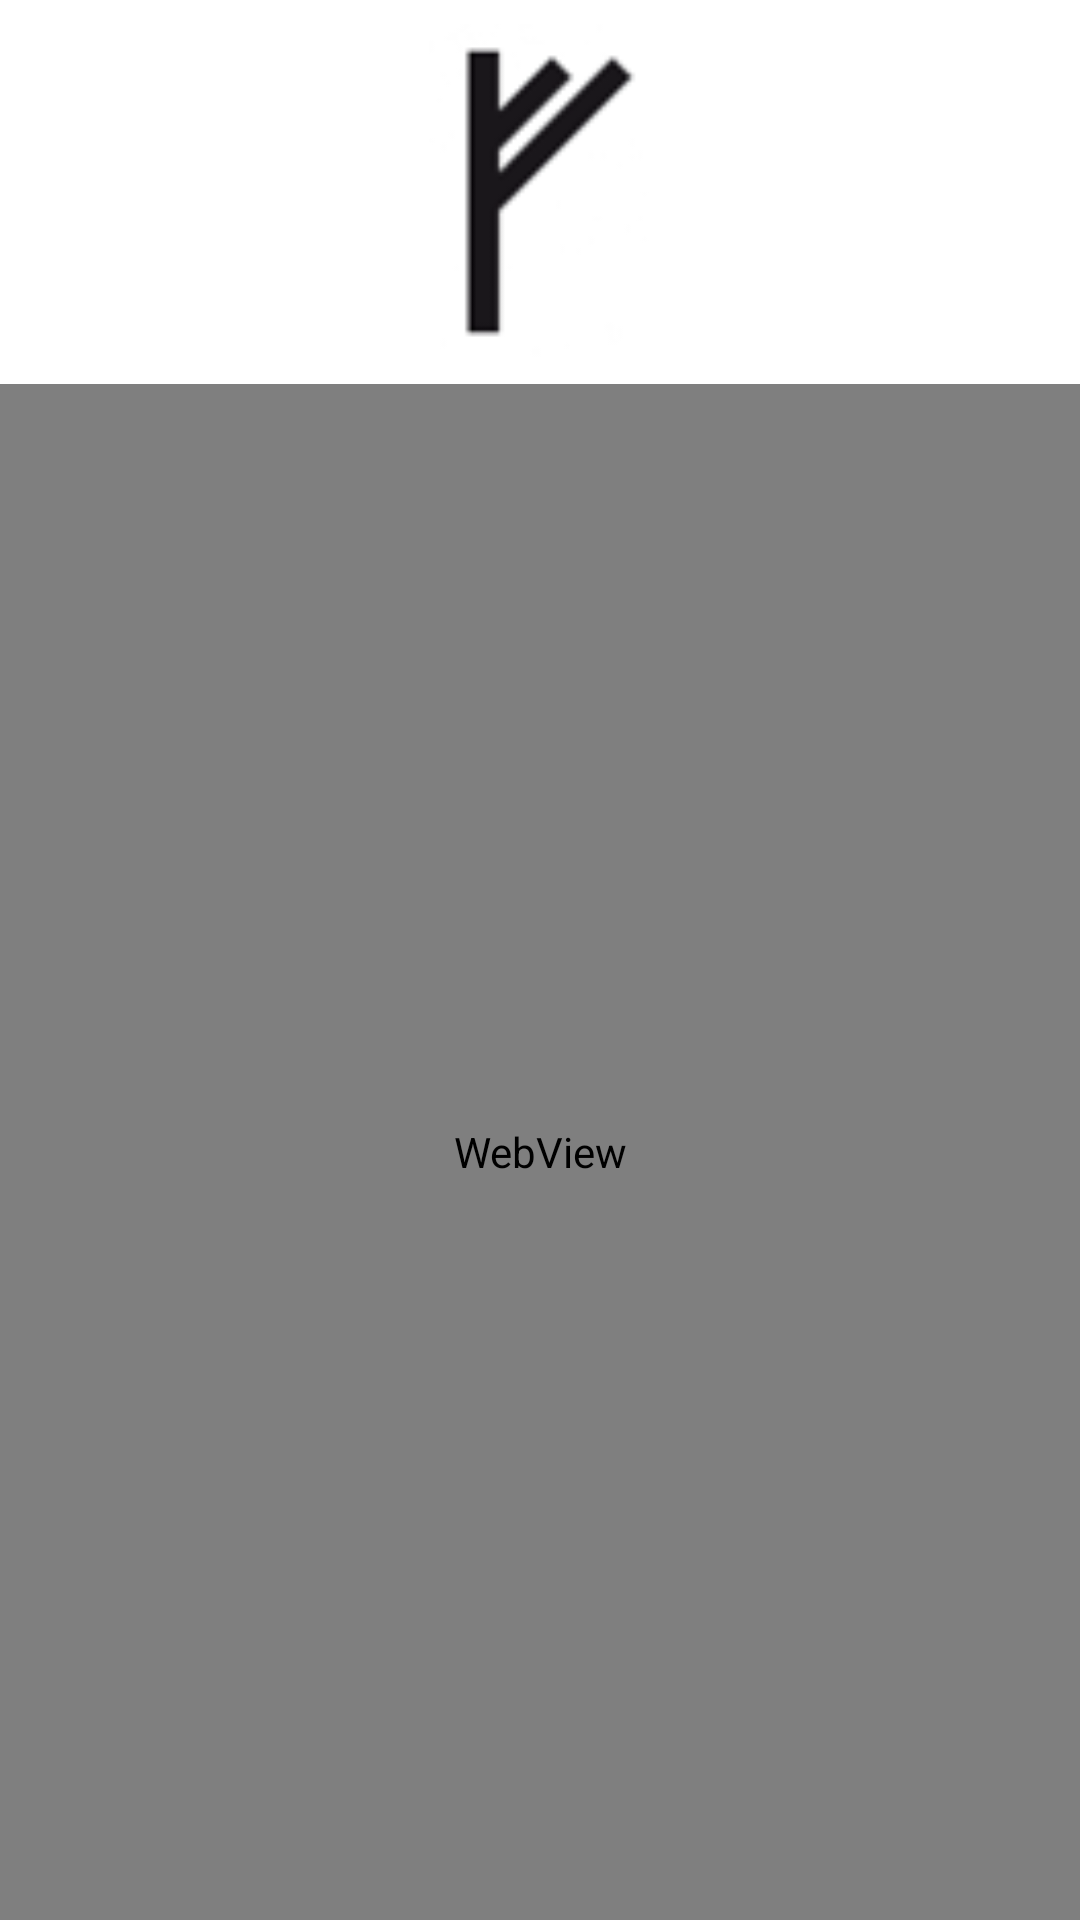

Screen size 1080 x 1920. Icon name, then its box in pixels as (x1, y1, x2, y2):
Картинка рун: (465, 48, 634, 336)
